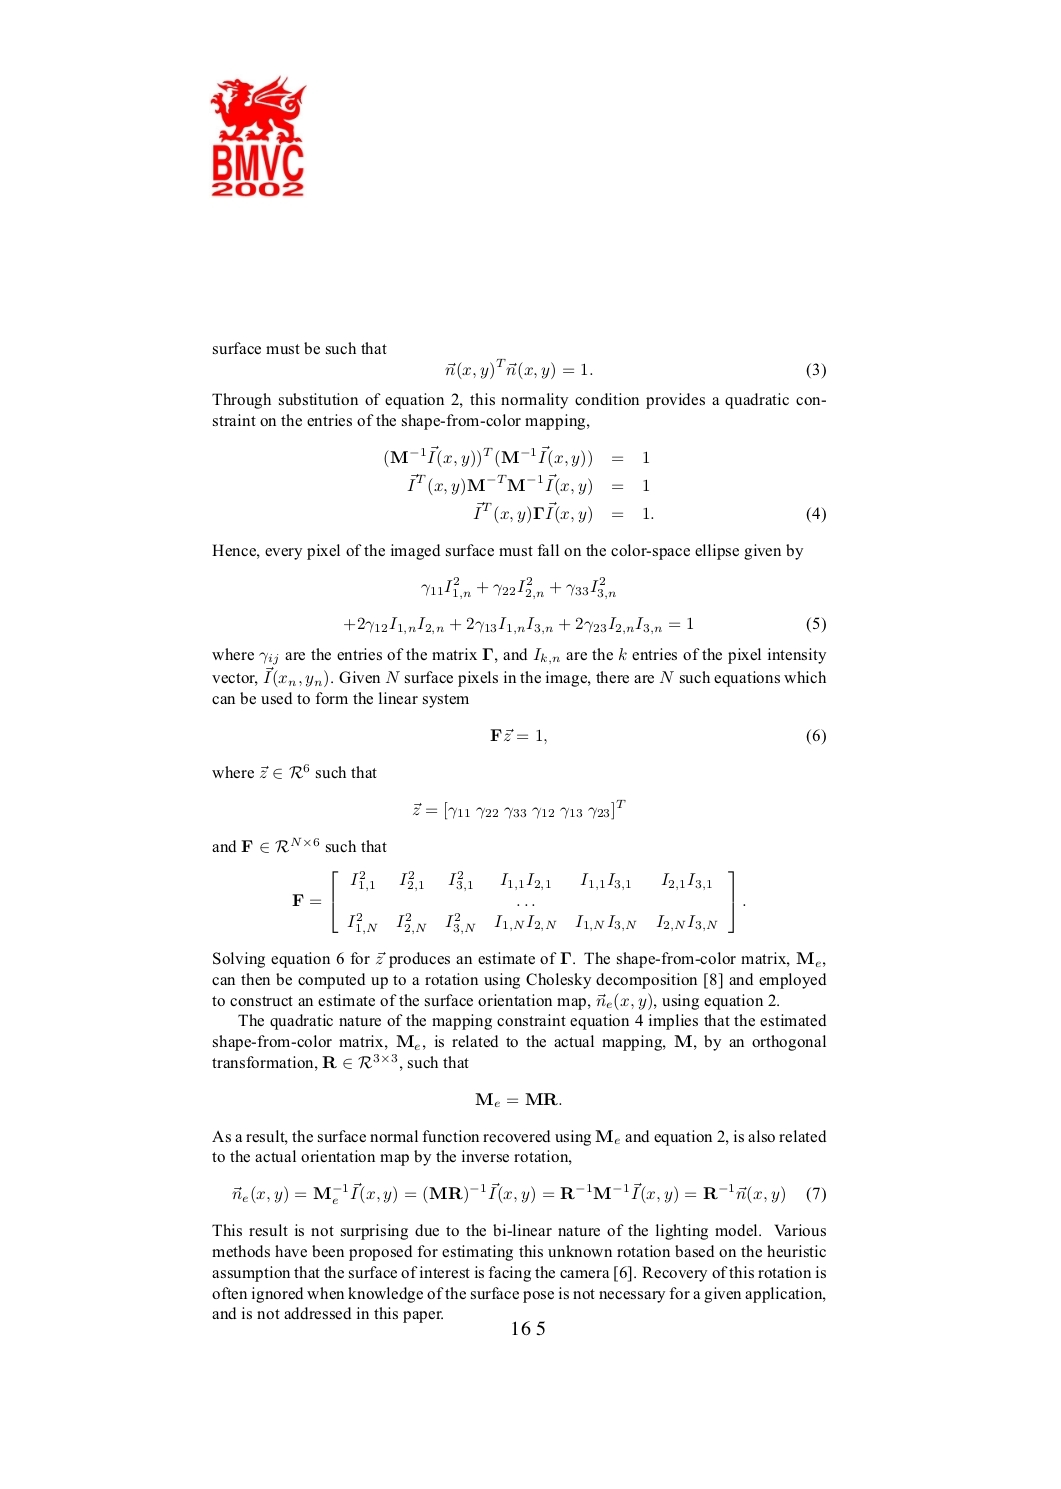figure: (210, 73, 305, 197)
formula: (292, 870, 745, 934), (232, 1182, 824, 1204), (344, 615, 824, 635), (473, 501, 824, 524), (384, 445, 649, 468), (406, 472, 649, 496), (490, 728, 824, 745), (421, 575, 615, 600), (413, 798, 625, 820), (446, 357, 593, 380), (475, 1091, 562, 1107)
